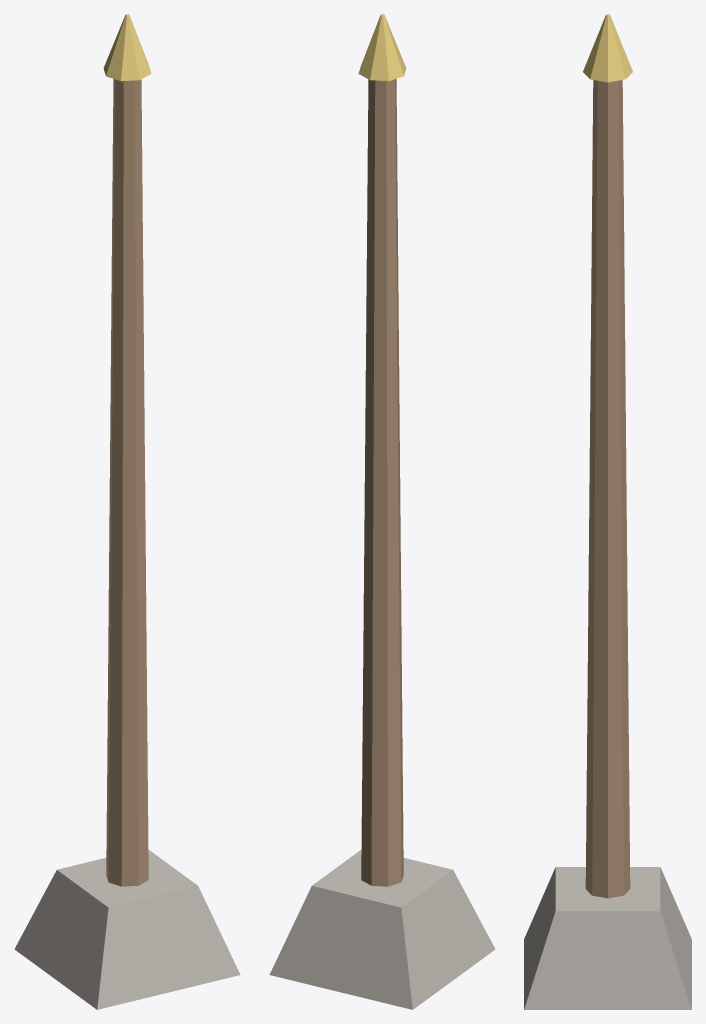
3 renders of one model, left to right at view 1: azimuth 30°, elevation 25°; view 2: azimuth 150°, elevation 25°; view 3: azimuth 270°, elevation 25°, orthographic.
Visible parts, largest first — view 1: WB_larchGatePole; view 2: WB_larchGatePole; view 3: WB_larchGatePole.
Boxes of the visible parts, left/top/right/bottom form: WB_larchGatePole: left=14, top=14, right=240, bottom=1009; WB_larchGatePole: left=269, top=14, right=495, bottom=1009; WB_larchGatePole: left=524, top=14, right=691, bottom=1009.
Size of the model in its own units: 1.6 by 10.1 by 1.6.
